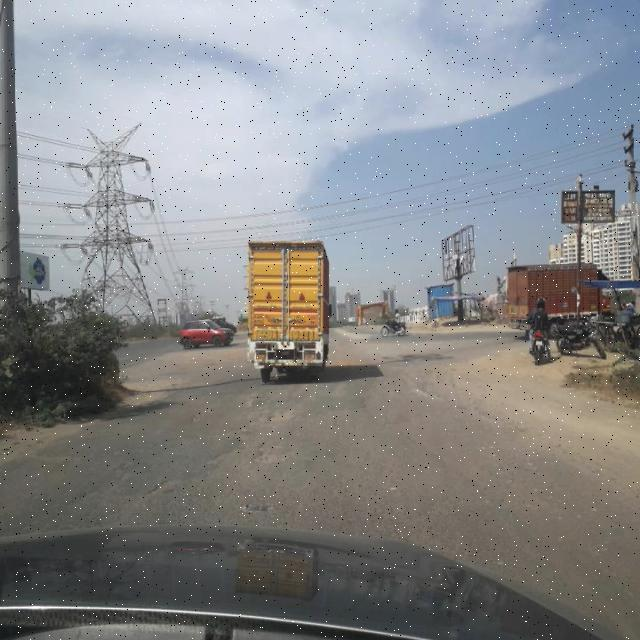D40: (250, 441, 306, 471), (204, 442, 244, 468), (148, 471, 188, 496), (262, 404, 302, 428)
